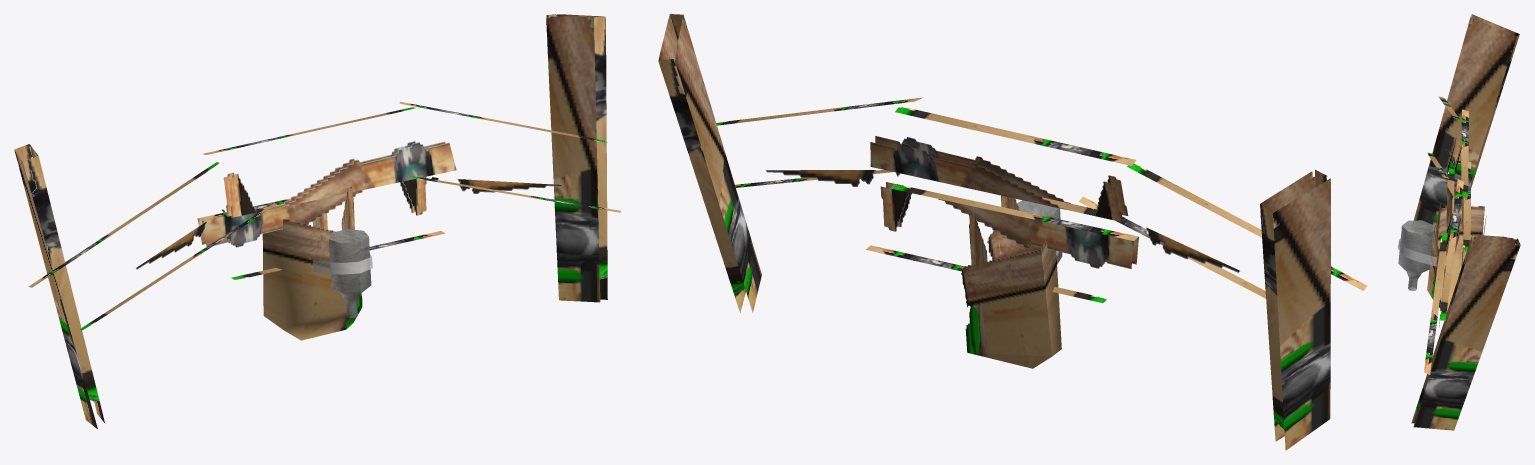
The model's file is glider.FBX.
3 views of the same model, side by side, from view 1: azimuth 30°, elevation 25°; view 2: azimuth 150°, elevation 25°; view 3: azimuth 270°, elevation 25° (orthographic). The views are drawn at different scales.
Parts seen in each view (by area): view 1: glider, bigBottle; view 2: glider; view 3: glider, bigBottle.
Part boxes in pixels (<box>): glider: <box>14,14,620,429</box>; bigBottle: <box>313,229,372,318</box>; glider: <box>658,14,1367,450</box>; glider: <box>1411,14,1520,430</box>; bigBottle: <box>1398,220,1436,290</box>.
Bounding box in the file's own units: 261 × 115 × 58.03.
